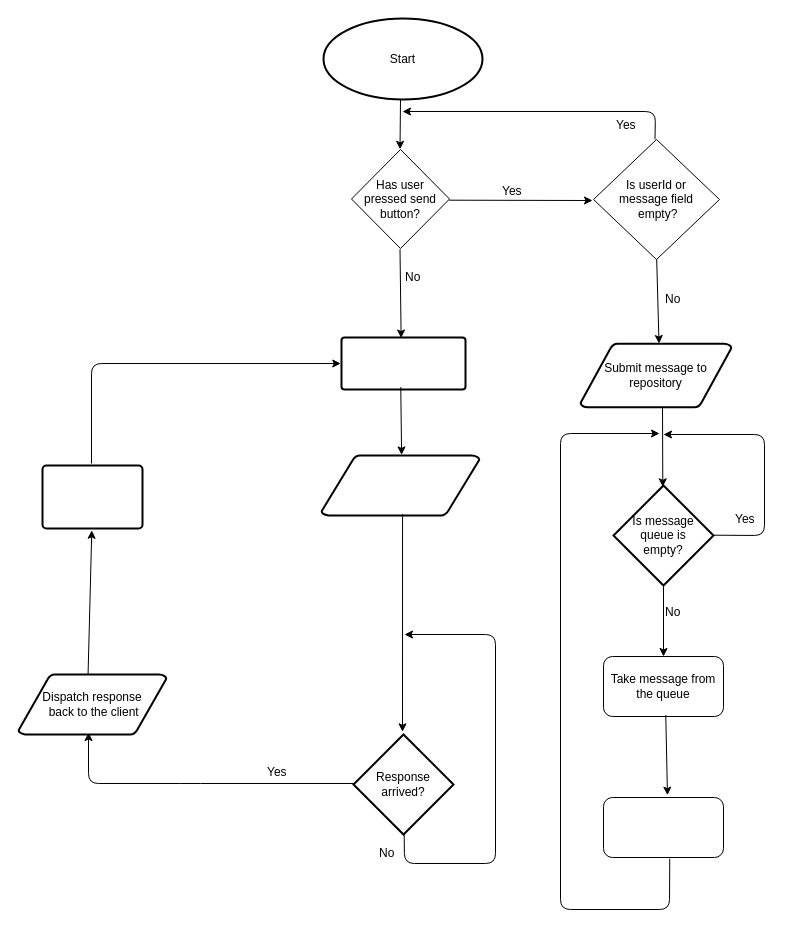
Image size: 790x935. Some labels were removed from this diagram. The box of each missing label's shape, as (x1, y1, x2, y2) in pixels:
Dispatch response to all request in the queue: (602, 796, 724, 858)
Send request: (340, 336, 466, 390)
Submit request to the repository: (320, 454, 480, 516)
Update messages div with given response content: (41, 464, 143, 529)
